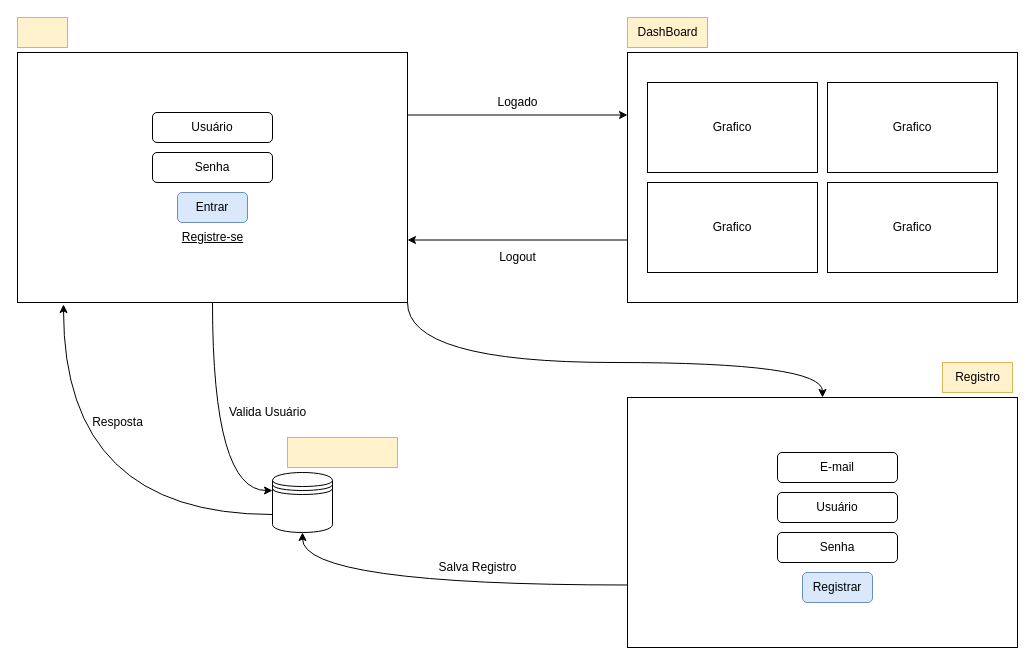
Some shapes in this 1035 by 665 pixel diagram are drawn without their labels. The centre of each missing label's shape, as x and y in pixels:
Banco de Dados: the point at 342,452
Login: the point at 42,32
